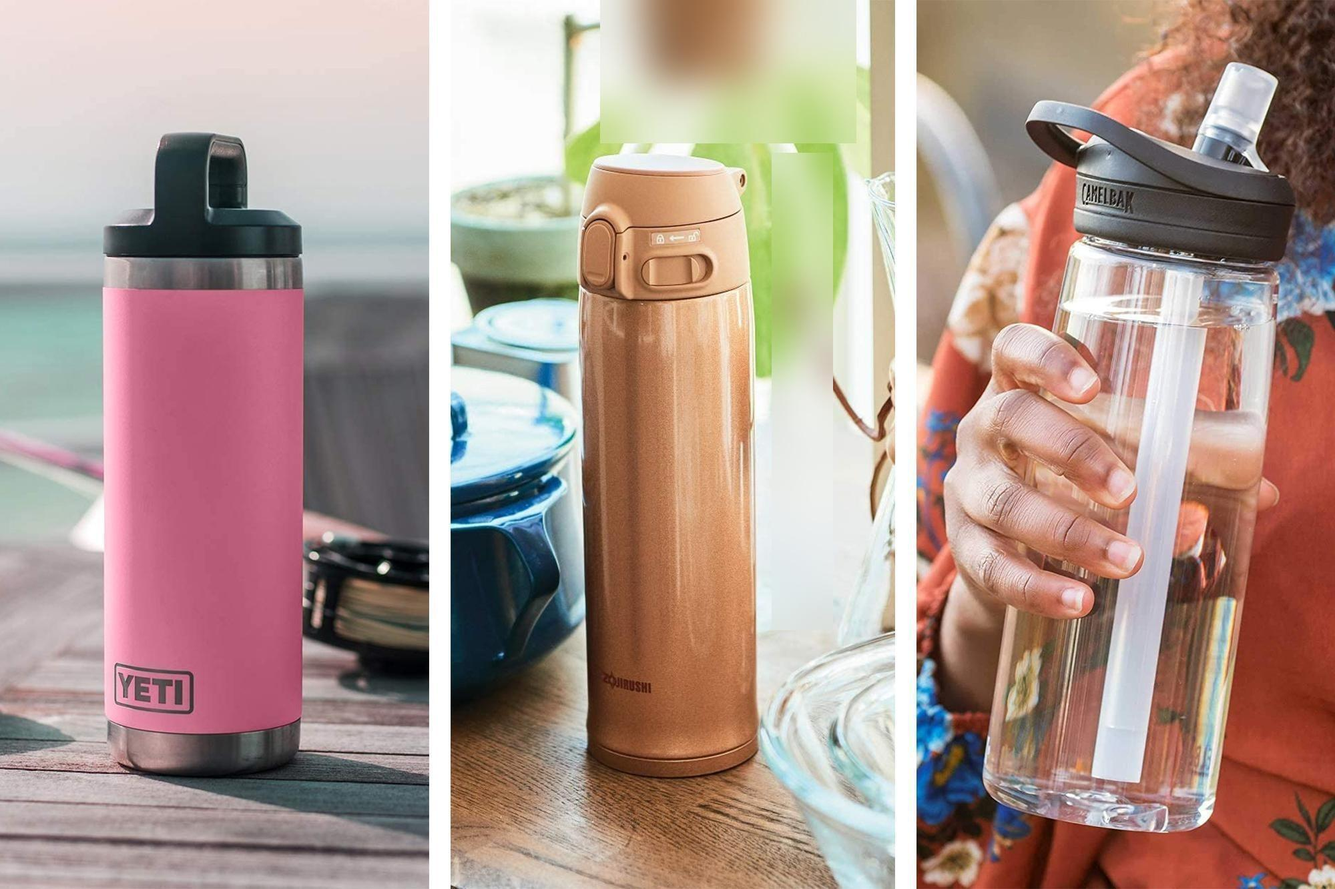gym bottle: (983, 58, 1298, 830), (97, 125, 310, 780), (575, 160, 764, 776)
